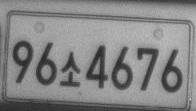4: (85, 44, 109, 89)
6: (110, 45, 133, 90), (35, 42, 58, 86), (160, 48, 182, 93)
7: (136, 47, 159, 91)
9: (11, 39, 34, 83)
소: (59, 50, 81, 87)
